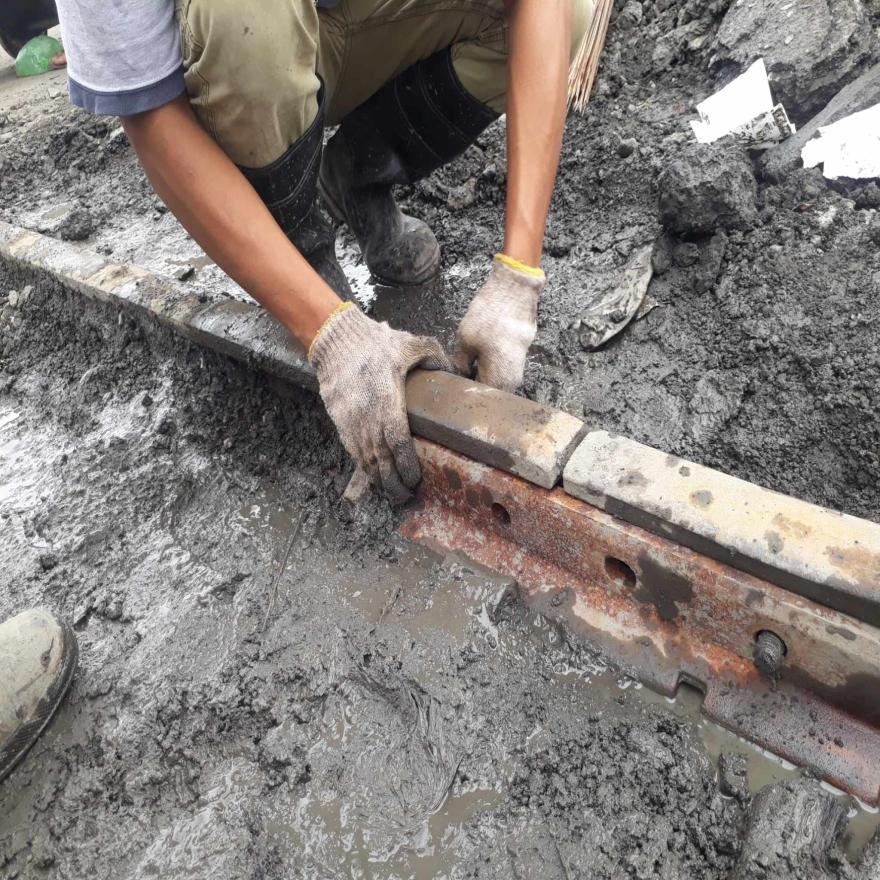railway-gap: (515, 374, 627, 532)
